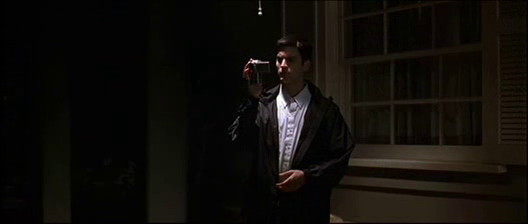face: (275, 47, 300, 84)
mls: (1, 1, 528, 224)
person: (228, 35, 355, 224)
